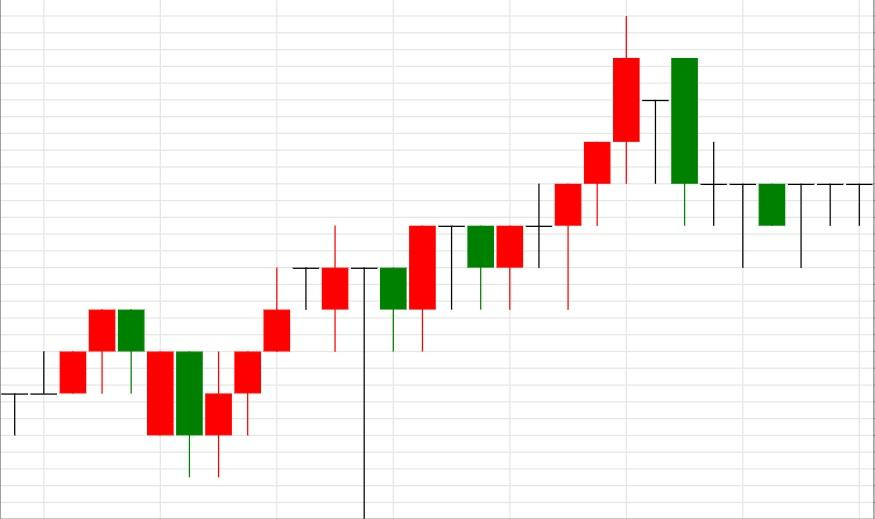three_white_soldiers_rise: (87, 267, 291, 478)
